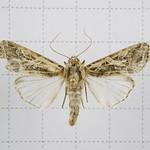Spodoptera litura: (1, 30, 150, 127)
